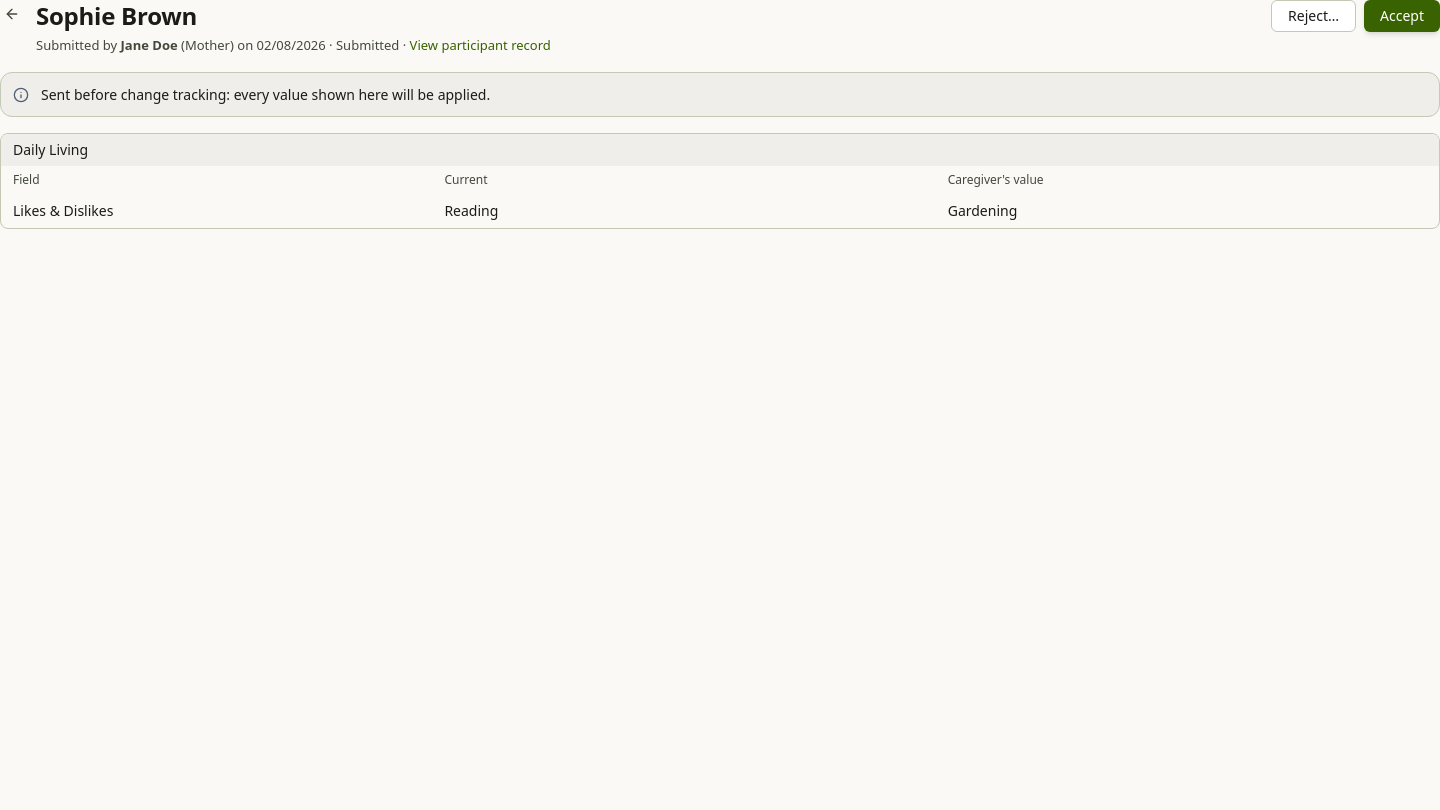
Scenario: CaregiverSubmissionReviewPage — a refused Accept or Reject › closes the Reject dialog, shows the server message and refetches
Step 1. Click the button "Reject…" → (1314, 16), box [1271,0,1356,32]
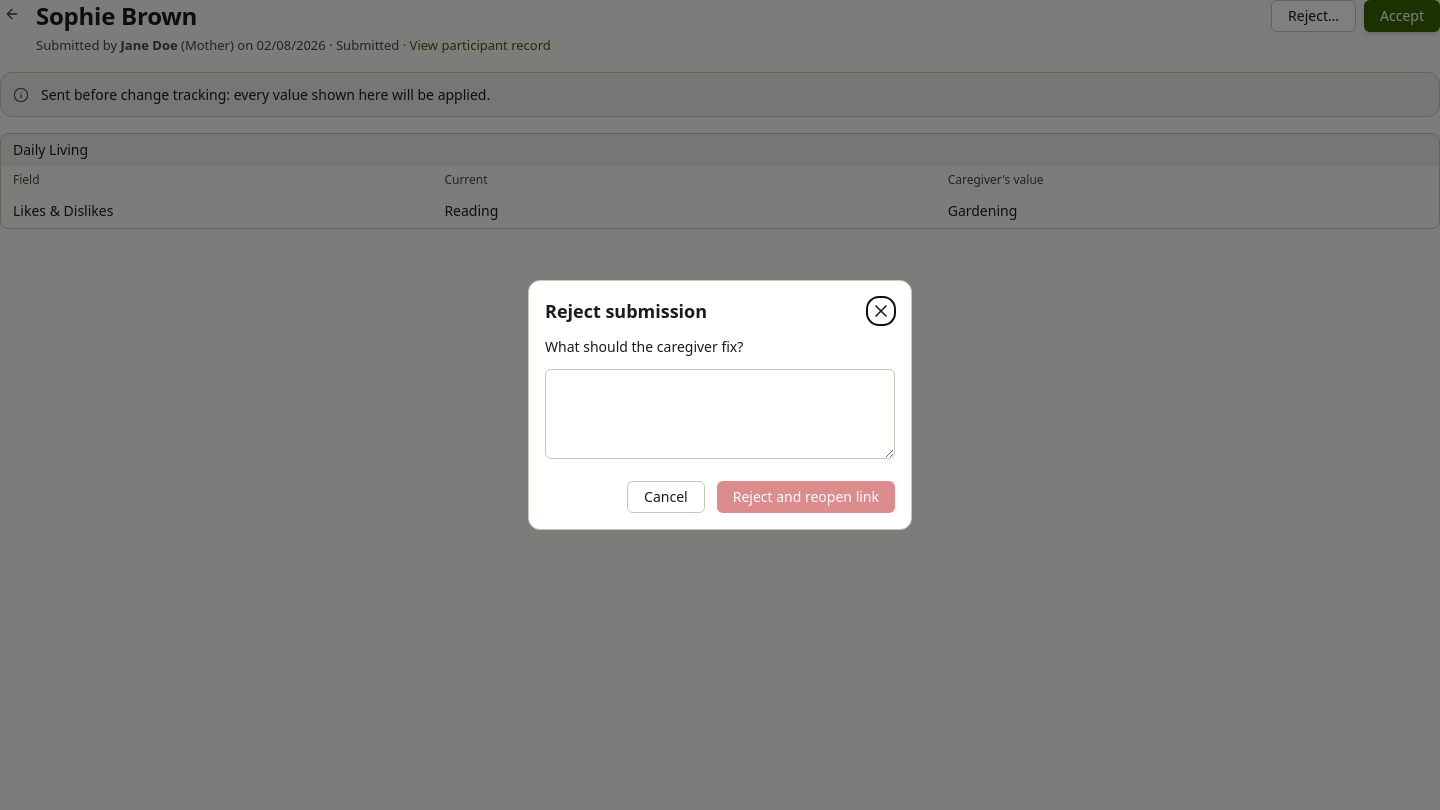
Step 2. Type "Fix the phone." into the text box labelled "What should the caregiver fix?" → (720, 414), box [545,369,895,459]
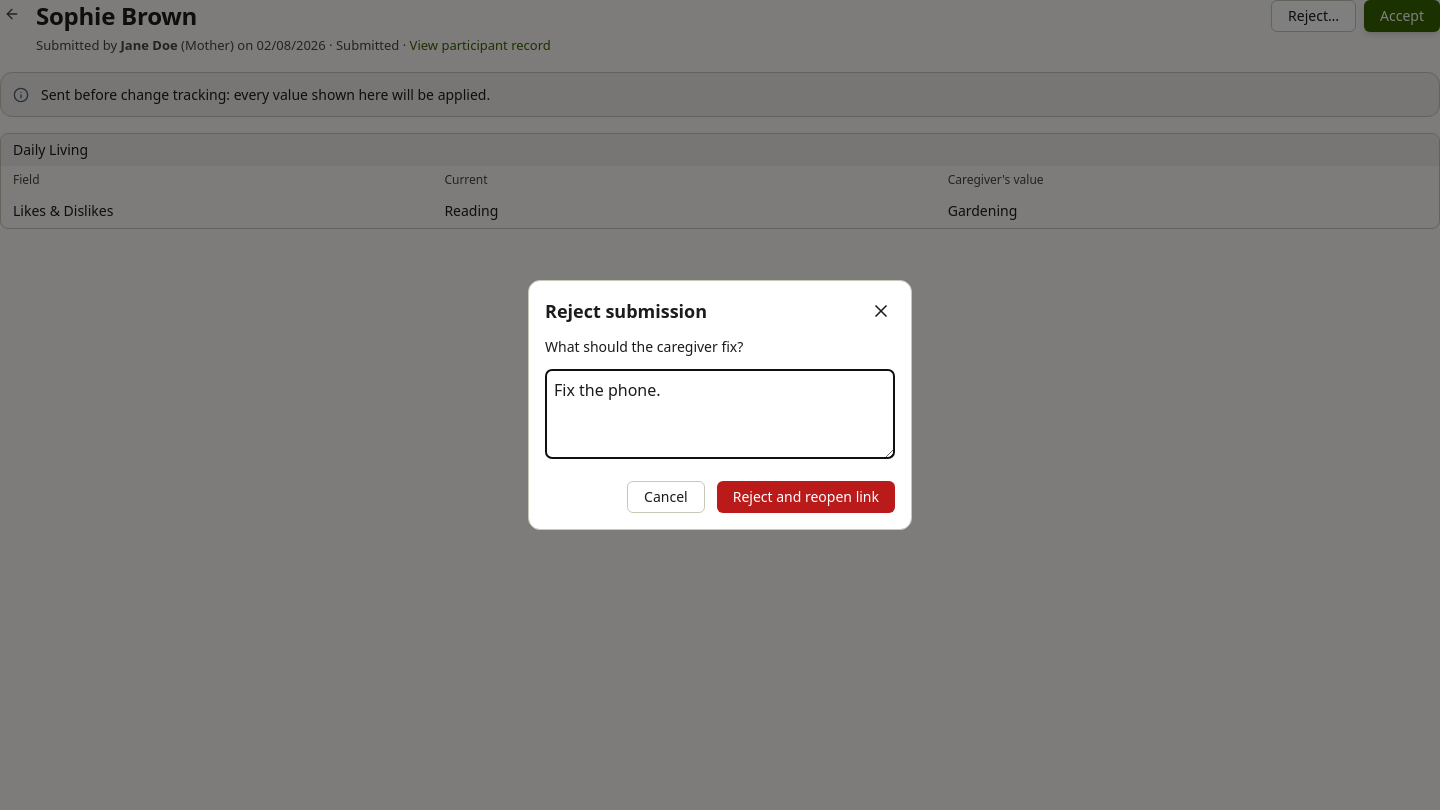
Step 3. Click the button "Reject and reopen link" → (806, 497), box [717,481,895,513]
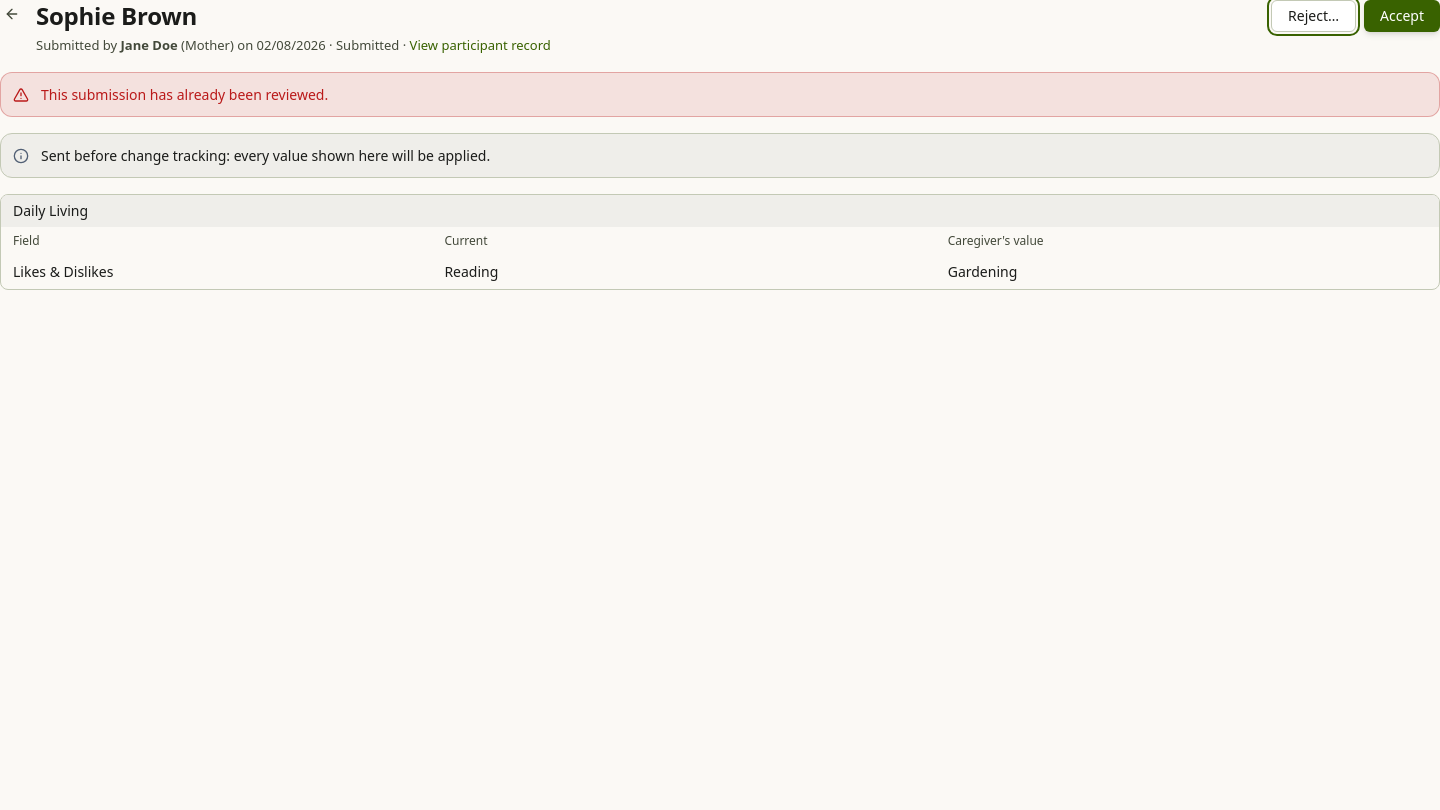
Result: the dialog is gone
Result: the text "This submission has already been reviewed." is shown at [41,84,328,104]
